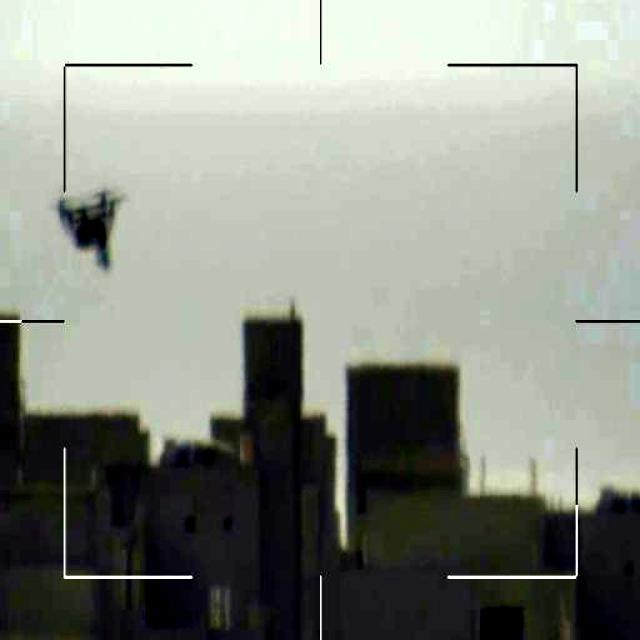bird: (51, 184, 122, 272)
